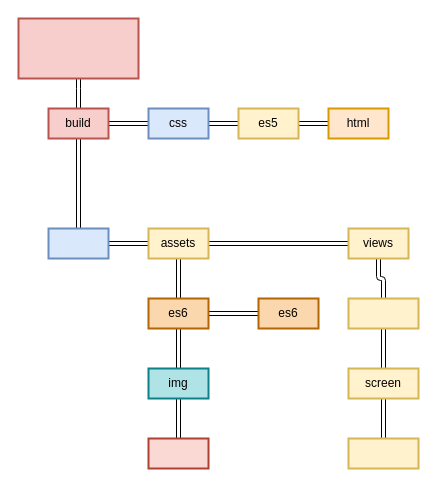
Some shapes in this 436 by 486 pixel diagram are drawn without their labels. The centre of each missing label's shape, as x and y in pixels:
components: pixel 383 313
frontend: pixel 78 48
scss: pixel 178 453
src: pixel 78 243
templates: pixel 383 453
